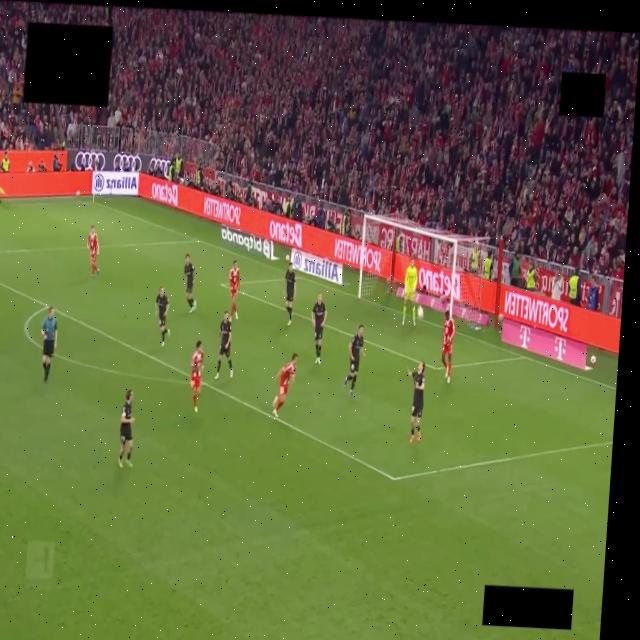ball: (416, 306, 423, 319)
player: (117, 389, 137, 469), (272, 352, 296, 417), (344, 325, 364, 396), (408, 362, 424, 443), (215, 311, 232, 379), (311, 294, 326, 364), (441, 310, 454, 383), (190, 340, 203, 412), (402, 259, 416, 325), (155, 286, 169, 346), (183, 254, 195, 313), (284, 263, 295, 326), (228, 261, 239, 320), (87, 226, 98, 278)
referee: (41, 308, 57, 383)
